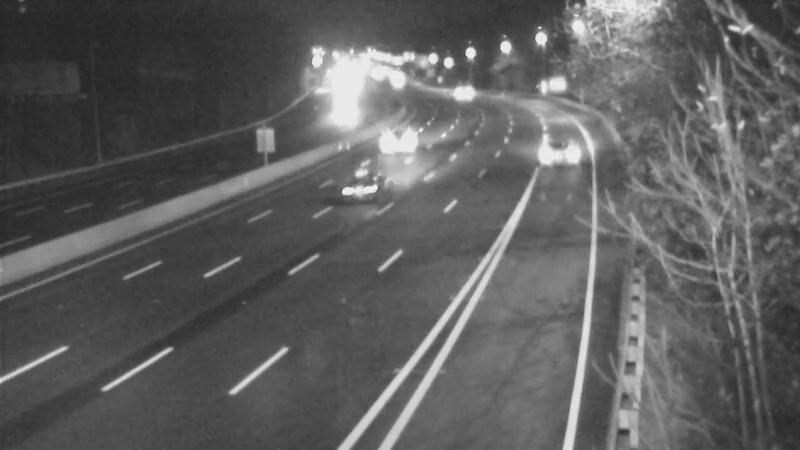vehicle: (333, 144, 413, 224), (440, 67, 490, 117), (528, 121, 578, 171), (378, 114, 428, 164), (316, 89, 366, 139)
